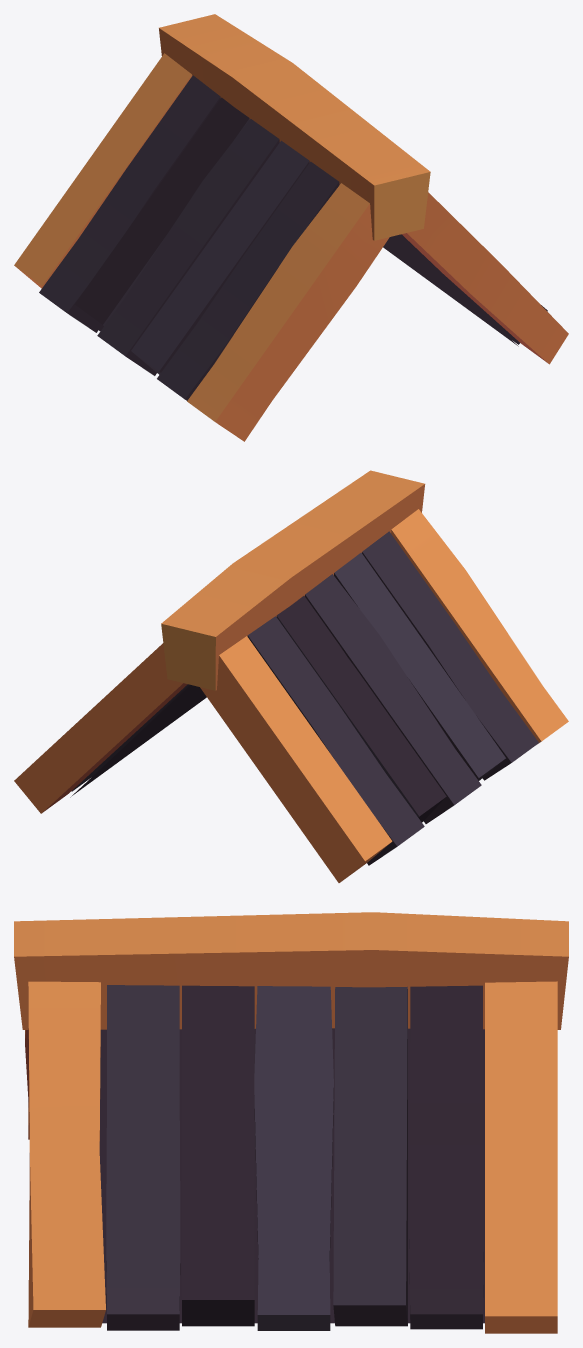
The model's file is Roof02_Black_Wood.glb.
3 views of the same model, one above another, from view 1: azimuth 30°, elevation 25°; view 2: azimuth 150°, elevation 25°; view 3: azimuth 270°, elevation 25° (orthographic). The views are drawn at different scales.
Parts seen in each view (by area): view 1: Roof02_Black_Wood; view 2: Roof02_Black_Wood; view 3: Roof02_Black_Wood.
Boxes of the visible parts, bbox=[...] form: Roof02_Black_Wood: bbox=[14, 14, 568, 441]; Roof02_Black_Wood: bbox=[14, 470, 568, 882]; Roof02_Black_Wood: bbox=[14, 912, 568, 1333].
Size of the model in its own units: 2.41 by 1.49 by 2.46.
Materials: 1 (1 with a texture image).
